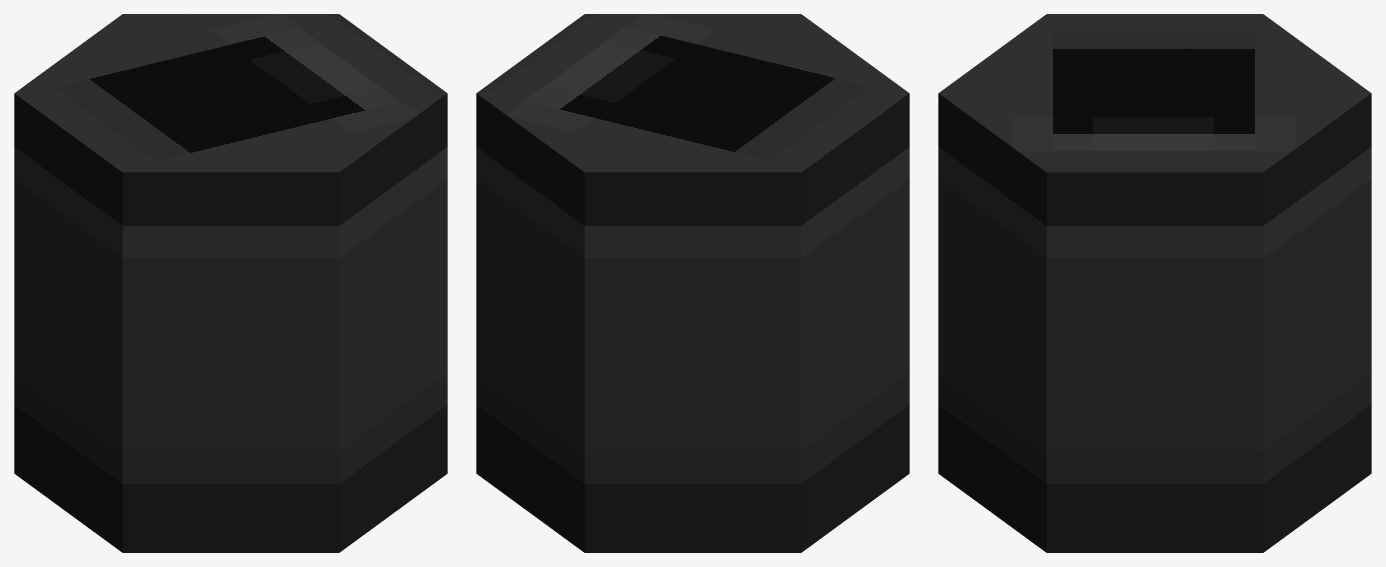
The model's file is reactor endcap.gltf.
The picture shows the model from 3 angles, left to right: view 1: azimuth 30°, elevation 25°; view 2: azimuth 150°, elevation 25°; view 3: azimuth 270°, elevation 25°; orthographic projection.
Visible parts, largest first — view 1: Cylinder.001; view 2: Cylinder.001; view 3: Cylinder.001.
Boxes of the visible parts, x1,y1,x2,y2 form: Cylinder.001: (14,14,447,552); Cylinder.001: (476,14,909,552); Cylinder.001: (938,14,1371,552).
Bounding box in the file's own units: 0.389 × 0.4355 × 0.4492.
Materials: 1 (1 with a texture image).
